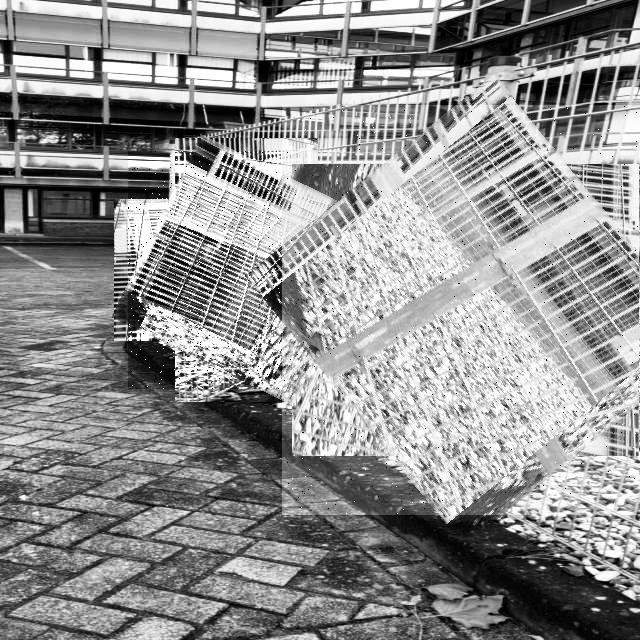fences: (282, 105, 640, 515), (128, 151, 365, 389)
